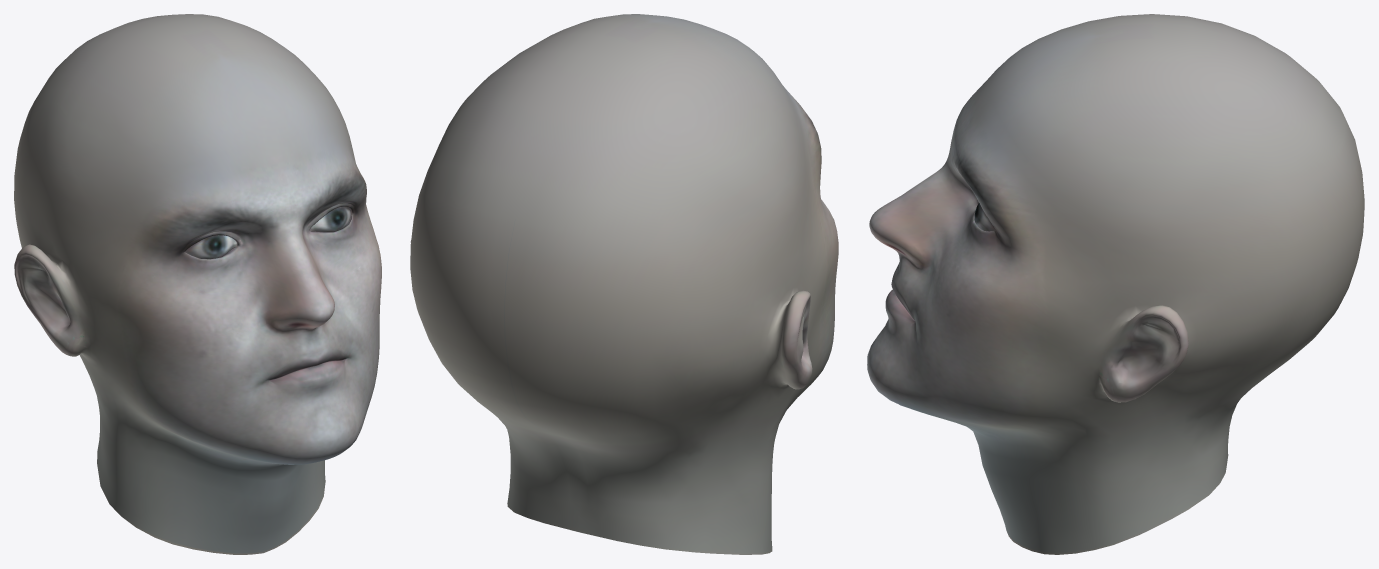
The picture shows the model from 3 angles, left to right: view 1: azimuth 30°, elevation 25°; view 2: azimuth 150°, elevation 25°; view 3: azimuth 270°, elevation 25°; orthographic projection. The views are drawn at different scales.
Visible parts, largest first — view 1: skin_hi, eyeR_hi, eyeL_hi; view 2: skin_hi; view 3: skin_hi.
Boxes of the visible parts, left/top/right/bottom form: skin_hi: left=14, top=14, right=381, bottom=554; eyeR_hi: left=185, top=235, right=237, bottom=259; eyeL_hi: left=309, top=206, right=352, bottom=232; skin_hi: left=410, top=14, right=838, bottom=554; skin_hi: left=867, top=14, right=1364, bottom=554.
Bounding box in the file's own units: 207 × 279 × 251.
Materials: 3 (3 with a texture image).
